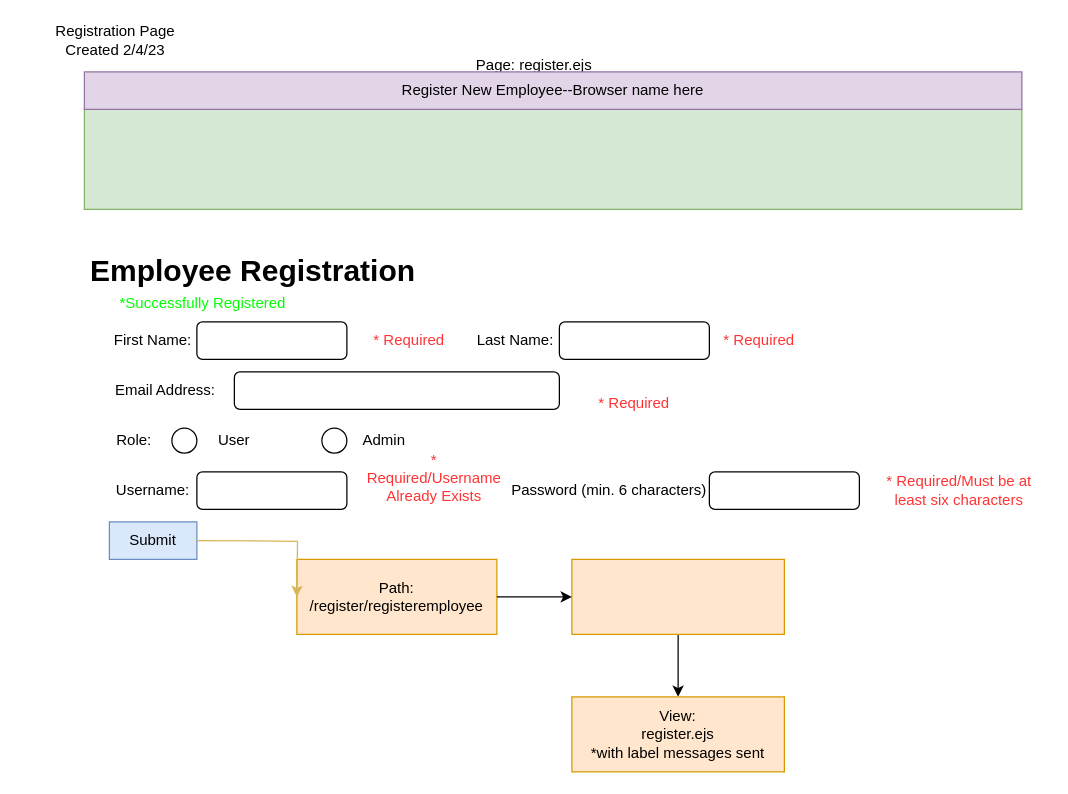
Some shapes in this 1068 by 794 pixel diagram are drawn without their labels. The shapes that lost their labels are listed below. From the top down, each one's box as (x1, y1, x2, y2) in pixels, then its label:
(83, 108, 1022, 209): IndexNavBar (/partials/navbar.ejs)
(571, 558, 784, 634): Route File: registeremp.js with a POST request to API
